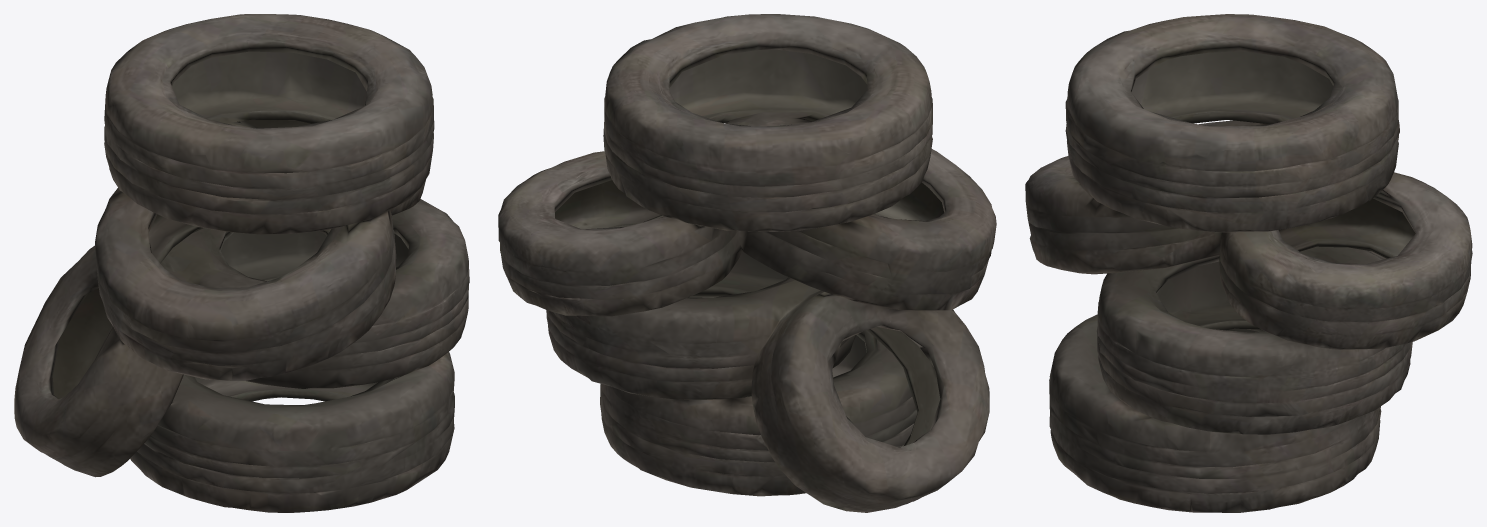
Rendered from tyres_stack.glb.
3 renders of one model, left to right at view 1: azimuth 30°, elevation 25°; view 2: azimuth 150°, elevation 25°; view 3: azimuth 270°, elevation 25°, orthographic.
Parts seen in each view (by area): view 1: tripo_node_31c72555-404e-4f21-88de-19aab6440bb6; view 2: tripo_node_31c72555-404e-4f21-88de-19aab6440bb6; view 3: tripo_node_31c72555-404e-4f21-88de-19aab6440bb6.
Part boxes in pixels (<box>): tripo_node_31c72555-404e-4f21-88de-19aab6440bb6: <box>14,14,469,512</box>; tripo_node_31c72555-404e-4f21-88de-19aab6440bb6: <box>498,14,996,512</box>; tripo_node_31c72555-404e-4f21-88de-19aab6440bb6: <box>1025,14,1472,512</box>.
Bounding box in the file's own units: 1 × 0.8572 × 0.9288.
Materials: 1 (1 with a texture image).
